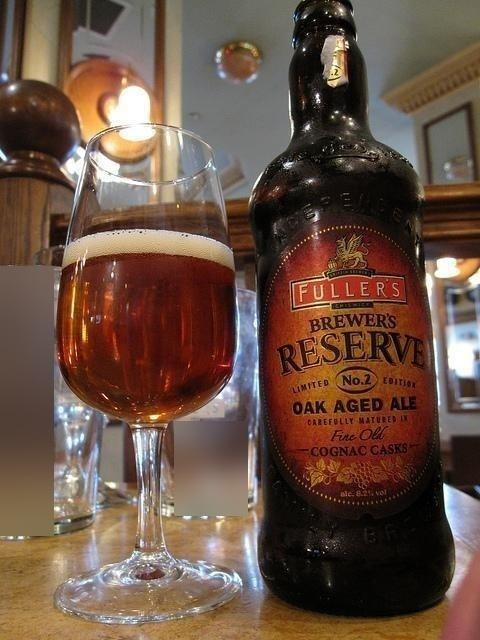bottle-glass: (243, 1, 456, 617)
glass-wine: (54, 123, 245, 619)
